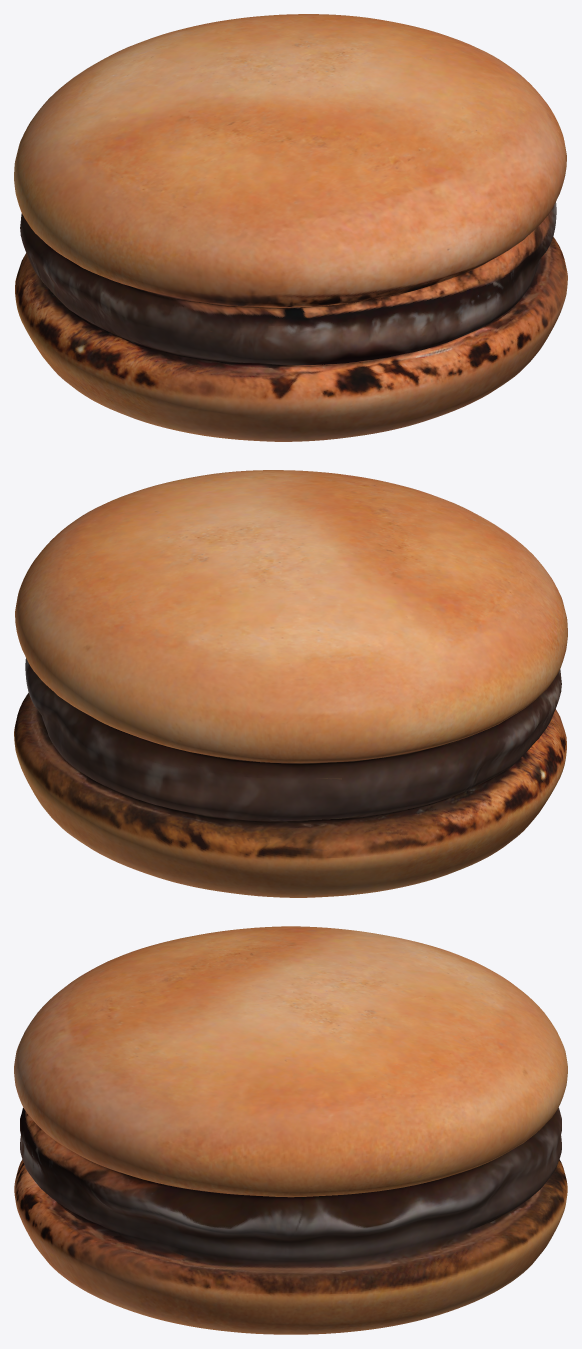
The model's file is Chocolate_Macaron_1226221015_texture.fbx.
3 renders of one model, top to bottom at view 1: azimuth 30°, elevation 25°; view 2: azimuth 150°, elevation 25°; view 3: azimuth 270°, elevation 25°, orthographic.
Parts seen in each view (by area): view 1: Mesh1_Mesh1.046; view 2: Mesh1_Mesh1.046; view 3: Mesh1_Mesh1.046.
Part boxes in pixels (x1=…): Mesh1_Mesh1.046: x1=14, y1=14, x2=567, y2=441; Mesh1_Mesh1.046: x1=14, y1=470, x2=567, y2=897; Mesh1_Mesh1.046: x1=14, y1=926, x2=567, y2=1334.
Bounding box in the file's own units: 200 × 115 × 200.
Materials: 1 (1 with a texture image).
